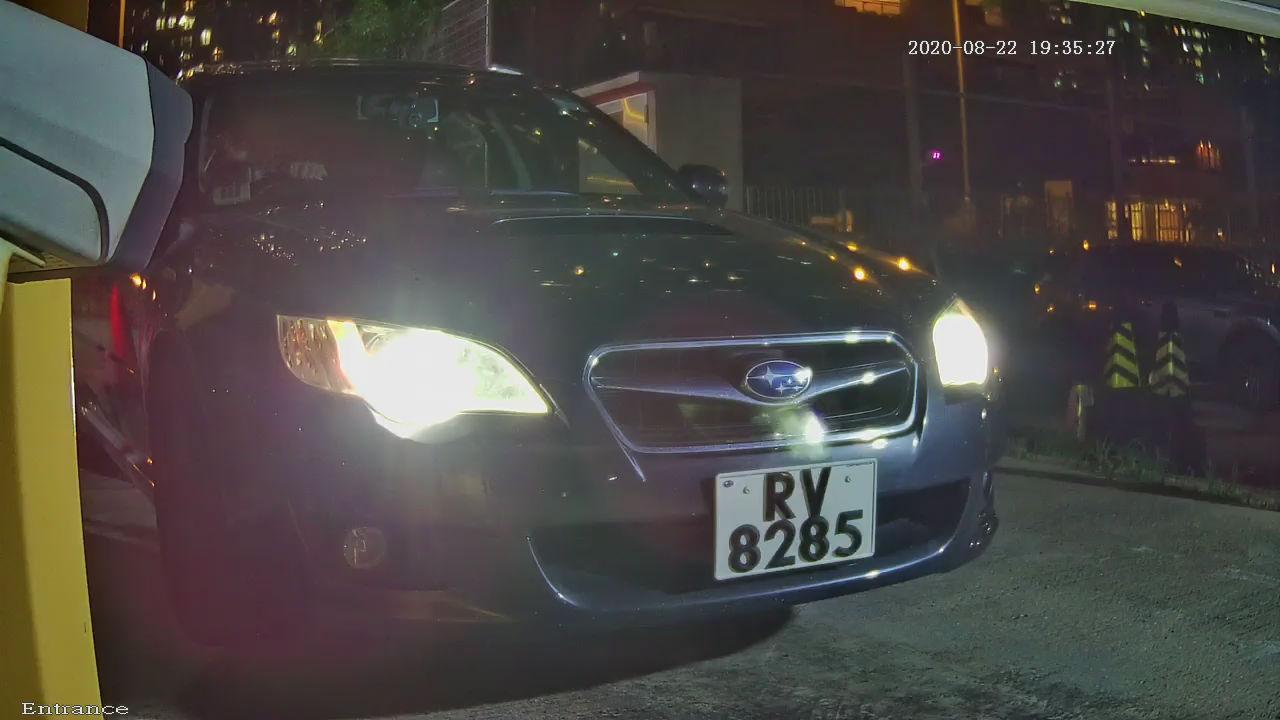Car: (75, 4, 1103, 692)
License Plate: (698, 451, 886, 589)
